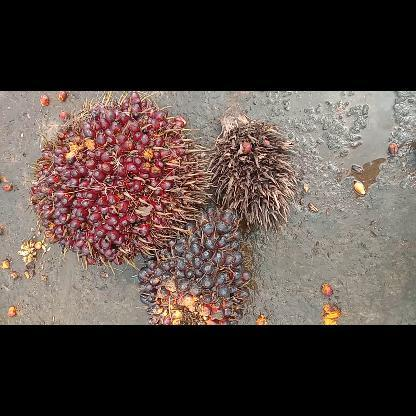Janjang kosong: (206, 102, 300, 240)
TBS masak: (26, 90, 216, 274)
TBS mentah: (136, 206, 252, 324)
